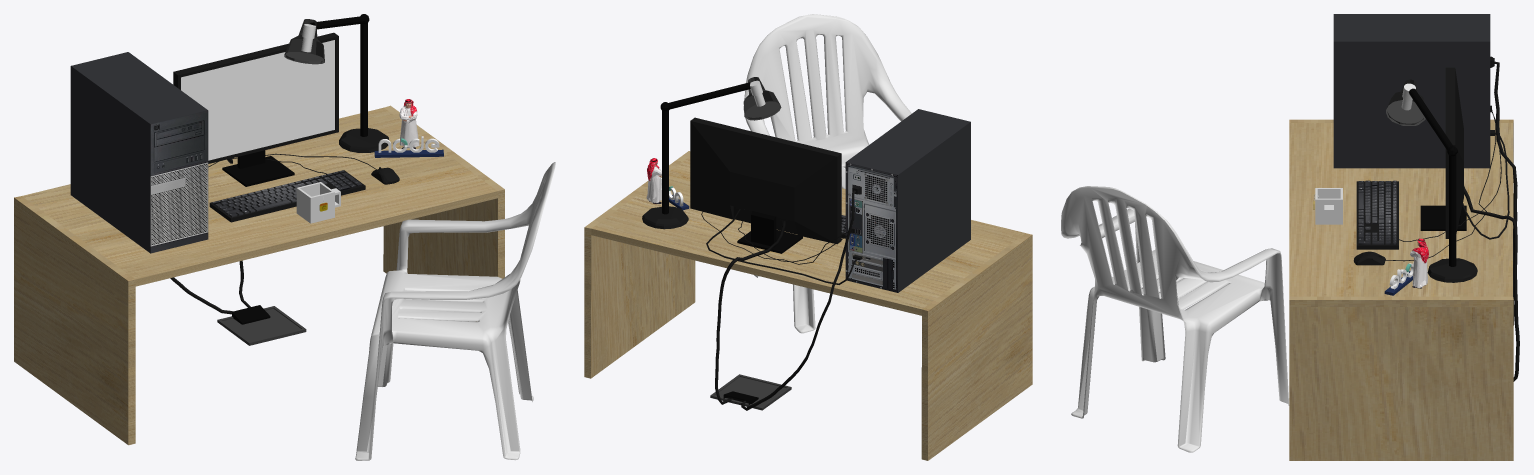
The model's file is MySetup.gltf.
The picture shows the model from 3 angles, left to right: view 1: azimuth 30°, elevation 25°; view 2: azimuth 150°, elevation 25°; view 3: azimuth 270°, elevation 25°; orthographic projection. The views are drawn at different scales.
Visible parts, largest first — view 1: Cube.046, PC, Chair, Screen, Desklamp, Keys, Monitor1, Cube.039, Cube.007, Cube, Cube.003, Mesh1.0; view 2: Cube.046, PC, Chair, Monitor1, Desklamp, Cube.039, Catenary.004, Catenary.003, Cube.001, Cube, Mesh1.0, Catenary; view 3: Cube.046, Chair, PC, Desklamp, Monitor1, Keys, Cube.003, Catenary.003, Cube.007, Cube, Catenary.004, Mesh1.0 (+1 smaller).
Part boxes in pixels (left/top/right/bottom): Cube.046: left=14, top=105, right=504, bottom=445; PC: left=70, top=52, right=208, bottom=253; Chair: left=355, top=162, right=555, bottom=460; Screen: left=181, top=40, right=334, bottom=160; Desklamp: left=284, top=14, right=388, bottom=152; Keys: left=212, top=170, right=362, bottom=217; Monitor1: left=173, top=32, right=338, bottom=163; Cube.039: left=217, top=306, right=306, bottom=345; Cube.007: left=296, top=182, right=334, bottom=223; Cube: left=222, top=156, right=294, bottom=186; Cube.003: left=209, top=170, right=365, bottom=222; Mesh1.0: left=399, top=99, right=419, bottom=149; Cube.046: left=584, top=151, right=1032, bottom=460; PC: left=845, top=109, right=970, bottom=292; Chair: left=743, top=14, right=911, bottom=333; Monitor1: left=690, top=117, right=841, bottom=244; Desklamp: left=642, top=77, right=781, bottom=229; Cube.039: left=710, top=374, right=791, bottom=410; Catenary.004: left=741, top=190, right=855, bottom=410; Catenary.003: left=715, top=220, right=785, bottom=404; Cube.001: left=751, top=211, right=776, bottom=245; Cube: left=737, top=230, right=802, bottom=253; Mesh1.0: left=646, top=158, right=661, bottom=203; Catenary: left=706, top=209, right=857, bottom=284; Cube.046: left=1289, top=119, right=1513, bottom=460; Chair: left=1061, top=186, right=1289, bottom=452; PC: left=1333, top=14, right=1490, bottom=168; Desklamp: left=1386, top=79, right=1477, bottom=282; Monitor1: left=1445, top=67, right=1463, bottom=238; Keys: left=1358, top=180, right=1396, bottom=244; Cube.003: left=1356, top=181, right=1398, bottom=249; Catenary.003: left=1464, top=186, right=1519, bottom=381; Cube.007: left=1315, top=188, right=1342, bottom=224; Cube: left=1420, top=205, right=1466, bottom=230; Catenary.004: left=1494, top=61, right=1517, bottom=325; Mesh1.0: left=1410, top=238, right=1428, bottom=288.
Size of the model in its own units: 9.3 by 7.63 by 10.
14 materials, 5 textured.
